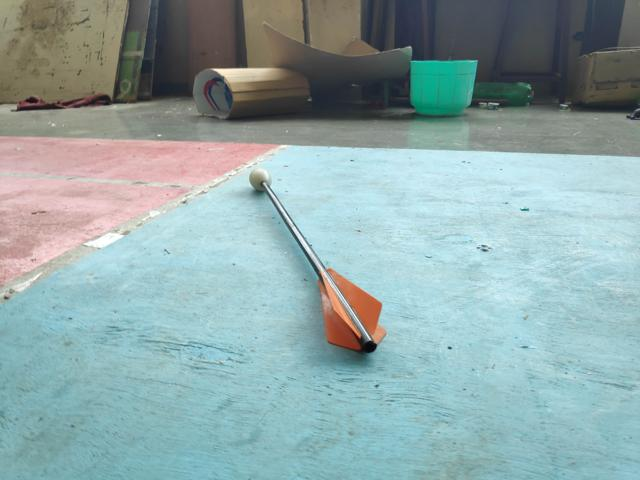Head: (247, 167, 273, 193)
Tail: (313, 265, 389, 355)
